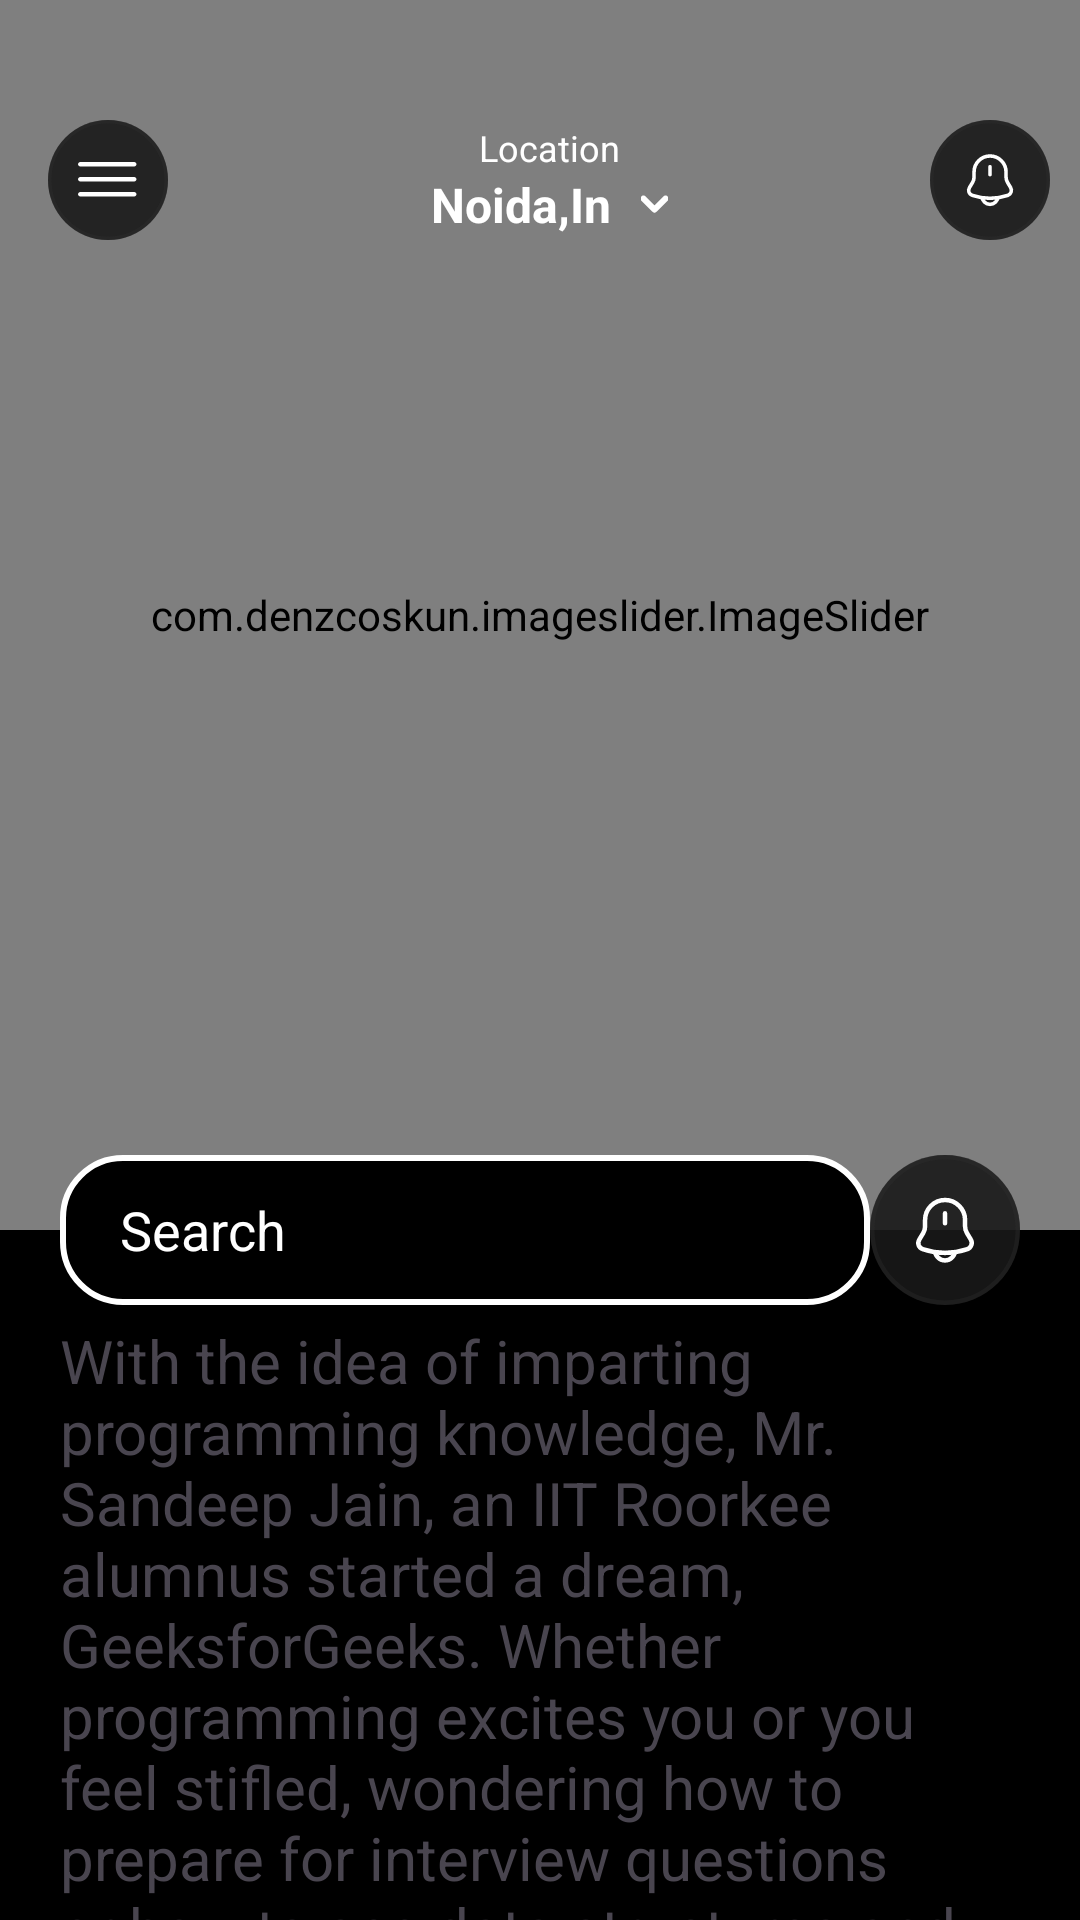

Where to tap for icons on this 1080w x 1920h app screen, as (x,y):
menu: (108,180)
notification: (990,180), (945,1230)
